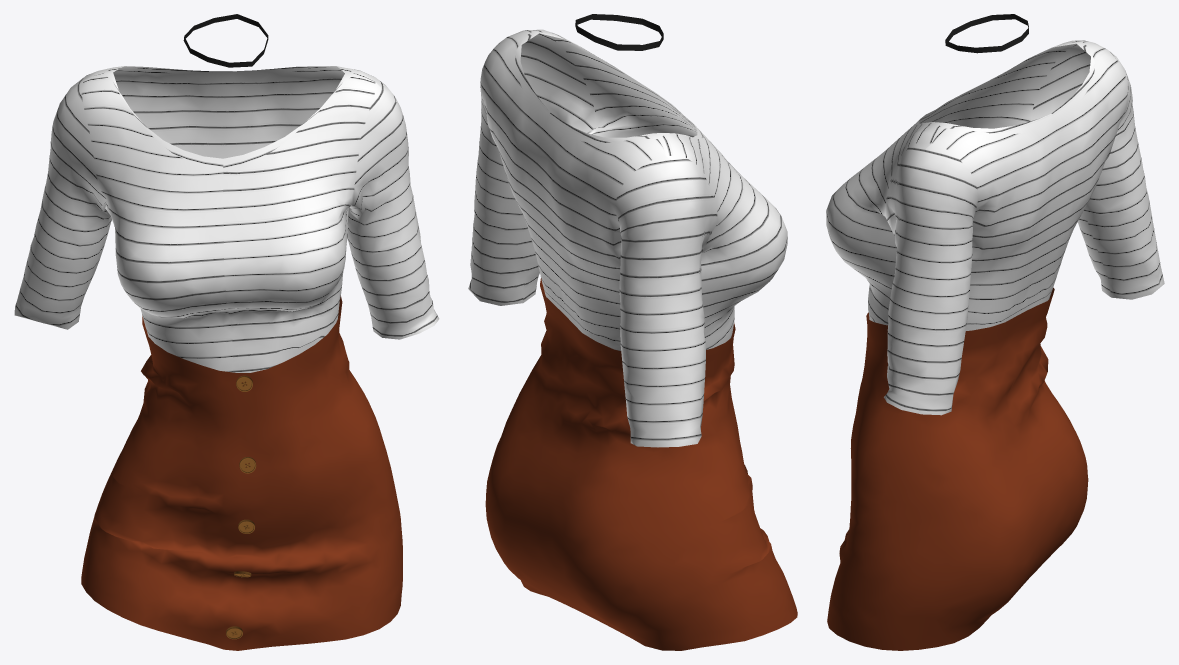
File: casual-clothes.glb
The picture shows the model from 3 angles, left to right: view 1: azimuth 30°, elevation 25°; view 2: azimuth 150°, elevation 25°; view 3: azimuth 270°, elevation 25°; orthographic projection. The views are drawn at different scales.
Visible parts, largest first — view 1: Object_4, Object_5, Object_3, Object_2; view 2: Object_4, Object_5, Object_2; view 3: Object_4, Object_5, Object_2.
Boxes of the visible parts, x1=… form: Object_4: x1=14, y1=66, x2=439, y2=372; Object_5: x1=81, y1=295, x2=402, y2=650; Object_3: x1=226, y1=375, x2=256, y2=639; Object_2: x1=183, y1=14, x2=268, y2=67; Object_4: x1=468, y1=29, x2=787, y2=447; Object_5: x1=485, y1=278, x2=797, y2=650; Object_2: x1=575, y1=14, x2=663, y2=50; Object_4: x1=826, y1=40, x2=1164, y2=415; Object_5: x1=827, y1=287, x2=1088, y2=650; Object_2: x1=945, y1=14, x2=1028, y2=53.
Size of the model in its own units: 424 by 738 by 391.
4 materials, 1 textured.
